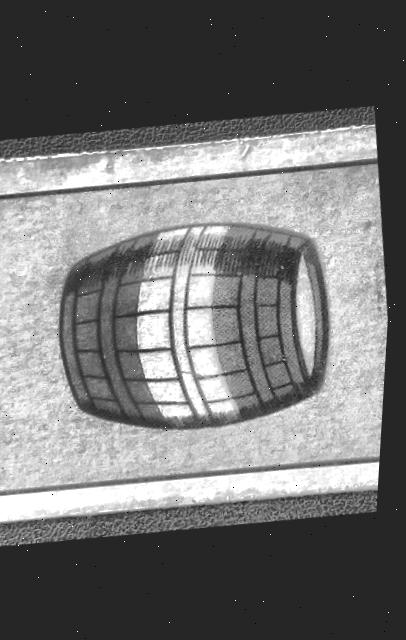El Barril: (0, 121, 400, 520)
